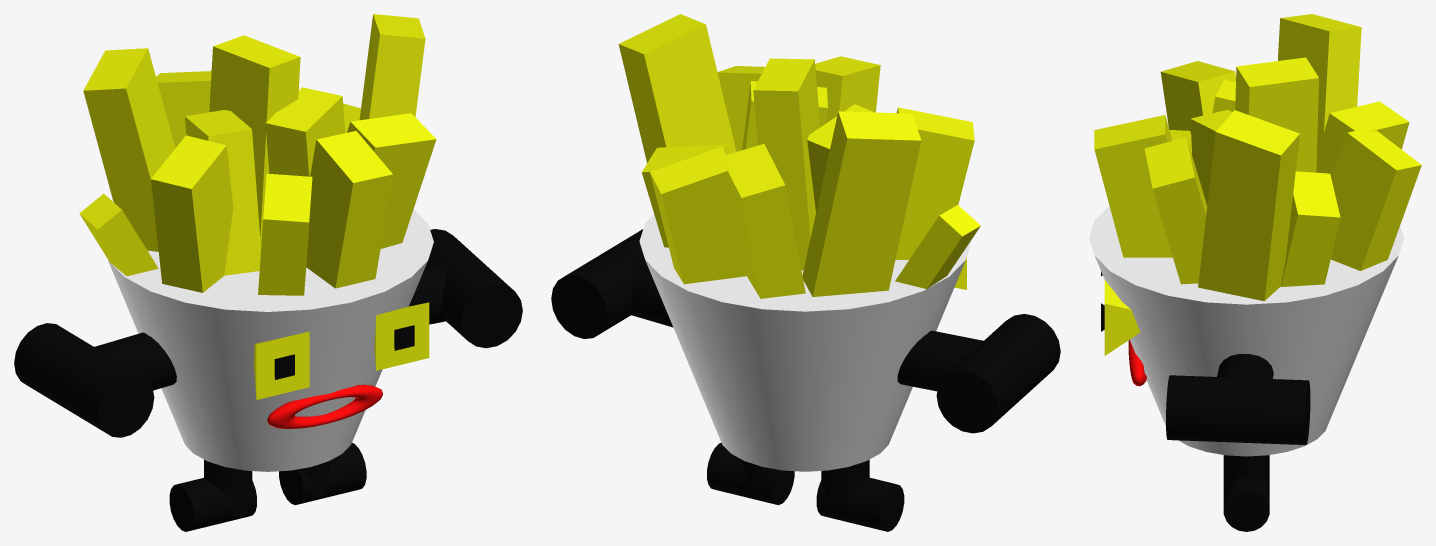
The model's file is bos.FBX.
The picture shows the model from 3 angles, left to right: view 1: azimuth 30°, elevation 25°; view 2: azimuth 150°, elevation 25°; view 3: azimuth 270°, elevation 25°; orthographic projection. The views are drawn at different scales.
Visible parts, largest first — view 1: Cone001, Box011, Box003, Box012, Cylinder009, Box002, Cylinder006, Box004, Box001, Box007, Box005, Box006 (+11 smaller); view 2: Cone001, Box011, Box007, Box008, Cylinder009, Box002, Box010, Box012, Cylinder006, Box013, Cylinder004, Cylinder008 (+9 smaller); view 3: Cone001, Box007, Cylinder006, Box008, Box003, Box002, Box011, Box005, Box009, Box012, Box010, Cylinder003 (+6 smaller).
Boxes of the visible parts, x1,y1,x2,y2 form: Cone001: (107, 209, 433, 471); Box011: (83, 48, 175, 251); Box003: (306, 131, 392, 288); Box012: (151, 135, 233, 292); Cylinder009: (14, 323, 154, 437); Box002: (209, 35, 300, 248); Cylinder006: (426, 229, 522, 348); Box004: (258, 173, 312, 295); Box001: (185, 110, 260, 275); Box007: (359, 14, 425, 120); Box005: (347, 113, 436, 248); Box006: (265, 87, 345, 176); Cone001: (639, 214, 971, 471); Box011: (802, 111, 921, 296); Box007: (618, 14, 736, 162); Box008: (650, 147, 746, 284); Cylinder009: (936, 314, 1060, 433); Box002: (753, 58, 820, 270); Box010: (724, 144, 805, 298); Box012: (895, 107, 974, 259); Cylinder006: (551, 229, 644, 338); Box013: (895, 205, 980, 289); Cylinder004: (816, 477, 904, 531); Cylinder008: (897, 330, 984, 391); Cone001: (1089, 205, 1403, 456); Box007: (1198, 110, 1299, 330); Cylinder006: (1166, 375, 1310, 444); Box008: (1330, 127, 1421, 270); Box003: (1094, 115, 1172, 257); Box002: (1235, 57, 1318, 172); Box011: (1278, 14, 1361, 156); Box005: (1144, 137, 1207, 284); Box009: (1280, 171, 1340, 286); Box012: (1160, 61, 1235, 132); Box010: (1316, 101, 1409, 177); Cylinder003: (1223, 478, 1269, 531).
Size of the model in its own units: 6.72 by 6.52 by 4.56.
